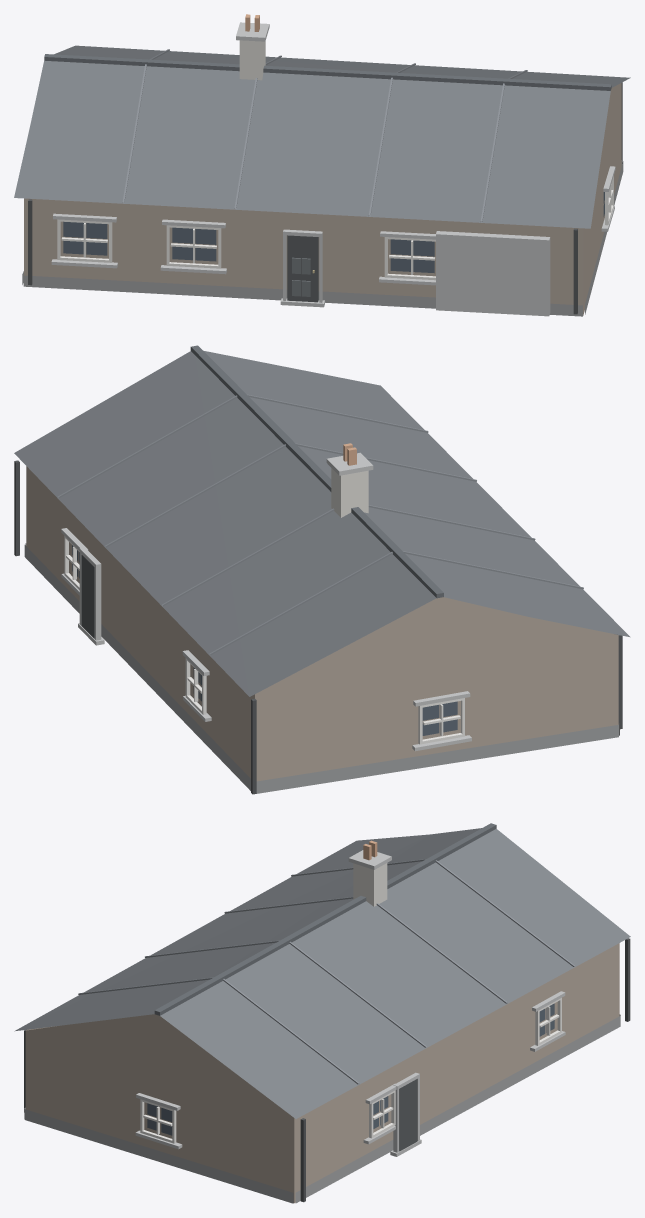
The picture shows the model from 3 angles, top to bottom: view 1: azimuth 30°, elevation 25°; view 2: azimuth 150°, elevation 25°; view 3: azimuth 270°, elevation 25°; orthographic projection. The views are drawn at different scales.
Visible parts, largest first — view 1: slate, harl_brown, stone_band, plinth, slate_dk, frame, slate_lt, door_dark, chim_render, pipe, door_dark_p; view 2: slate, harl_brown, plinth, slate_lt, stone_band, slate_dk, frame, pipe, chim_render, door_dark; view 3: slate, harl_brown, plinth, slate_lt, slate_dk, stone_band, frame, chim_render, door_dark, pipe.
Boxes of the visible parts, left/top/right/bottom form: slate: left=14, top=45, right=630, bottom=228; harl_brown: left=24, top=83, right=621, bottom=315; stone_band: left=51, top=22, right=615, bottom=316; plinth: left=22, top=160, right=623, bottom=316; slate_dk: left=44, top=54, right=611, bottom=90; frame: left=57, top=175, right=613, bottom=280; slate_lt: left=122, top=49, right=527, bottom=222; door_dark: left=287, top=235, right=318, bottom=302; chim_render: left=239, top=40, right=265, bottom=80; pipe: left=28, top=82, right=622, bottom=314; door_dark_p: left=292, top=257, right=310, bottom=296; slate: left=14, top=350, right=630, bottom=696; harl_brown: left=26, top=466, right=618, bottom=781; plinth: left=24, top=543, right=619, bottom=793; slate_lt: left=57, top=394, right=583, bottom=655; stone_band: left=61, top=452, right=471, bottom=751; slate_dk: left=190, top=345, right=443, bottom=598; frame: left=64, top=536, right=464, bottom=744; pipe: left=14, top=460, right=622, bottom=794; chim_render: left=331, top=468, right=368, bottom=517; door_dark: left=81, top=554, right=94, bottom=638; slate: left=14, top=828, right=630, bottom=1118; harl_brown: left=25, top=943, right=619, bottom=1203; plinth: left=24, top=1014, right=620, bottom=1203; slate_lt: left=78, top=859, right=574, bottom=1084; slate_dk: left=154, top=823, right=496, bottom=1015; stone_band: left=135, top=850, right=565, bottom=1156; frame: left=140, top=998, right=561, bottom=1143; chim_render: left=353, top=863, right=387, bottom=906; door_dark: left=399, top=1079, right=417, bottom=1151; pipe: left=24, top=938, right=630, bottom=1202.
Size of the model in its own units: 19.17 by 6.52 by 17.94.
